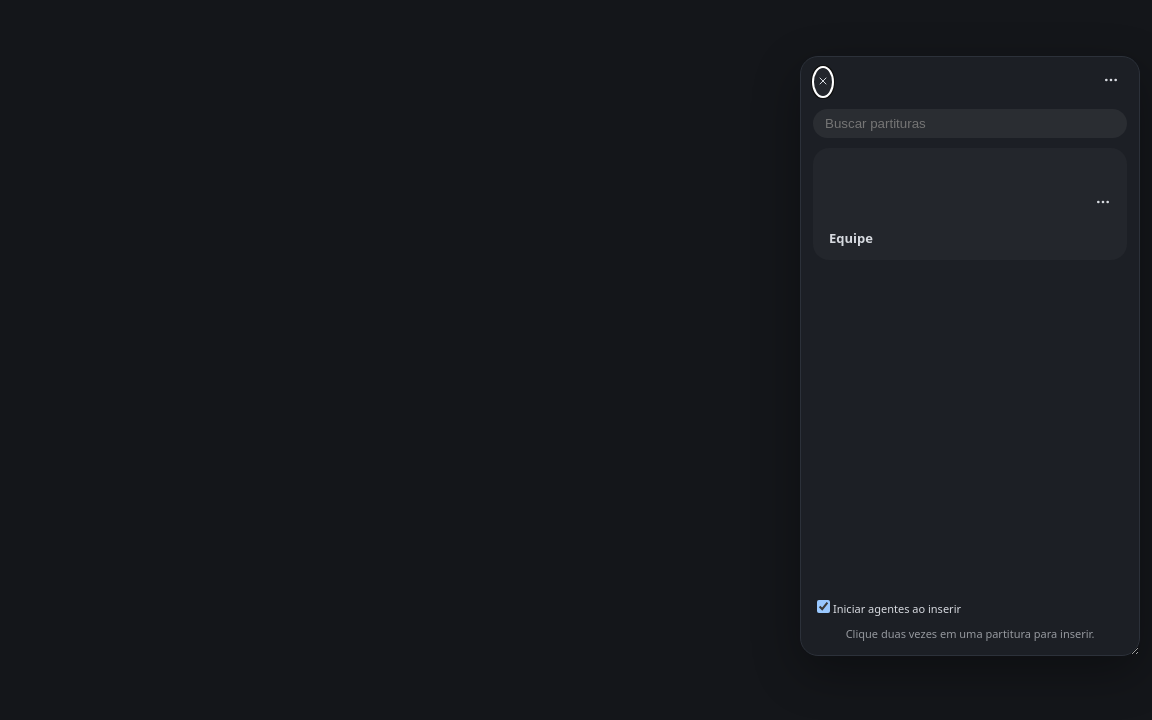
Test: Escape fecha o painel mesmo com o foco perdido, e o foco volta ao painel depois de cada ação
The image size is (1152, 720).
Press Escape
Click the button named "Ações de Equipe".
click(1103, 204)  # box x1=1087 y1=156 x2=1119 y2=252
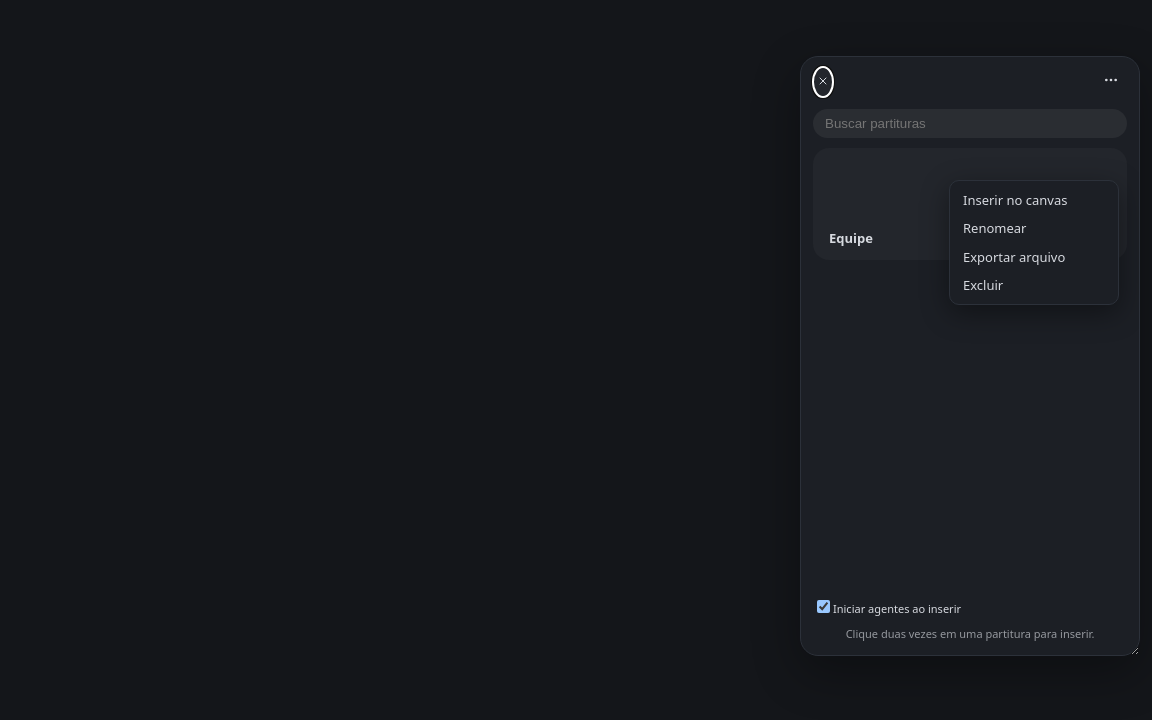
Now the menu item "Excluir" is shown
Click the menu item "Excluir".
click(1034, 285)  # box x1=955 y1=271 x2=1113 y2=299
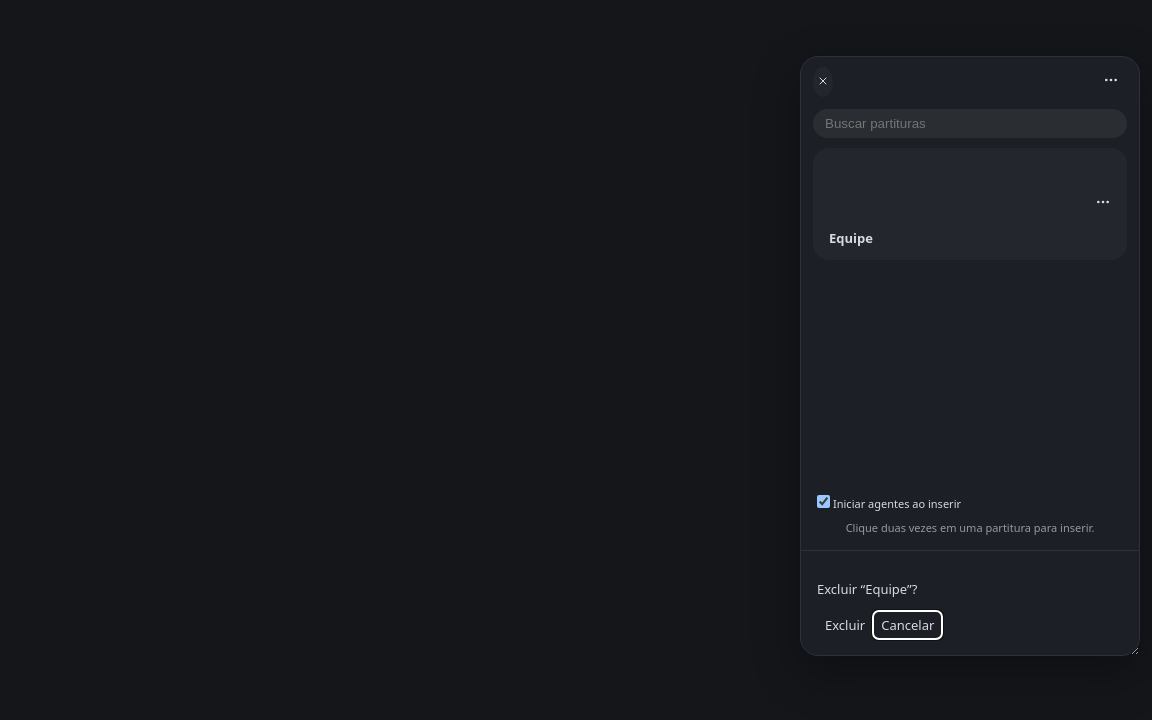
Now the button "Cancelar" is shown
Press Escape in the button "Cancelar", box x1=873 y1=611 x2=942 y2=639
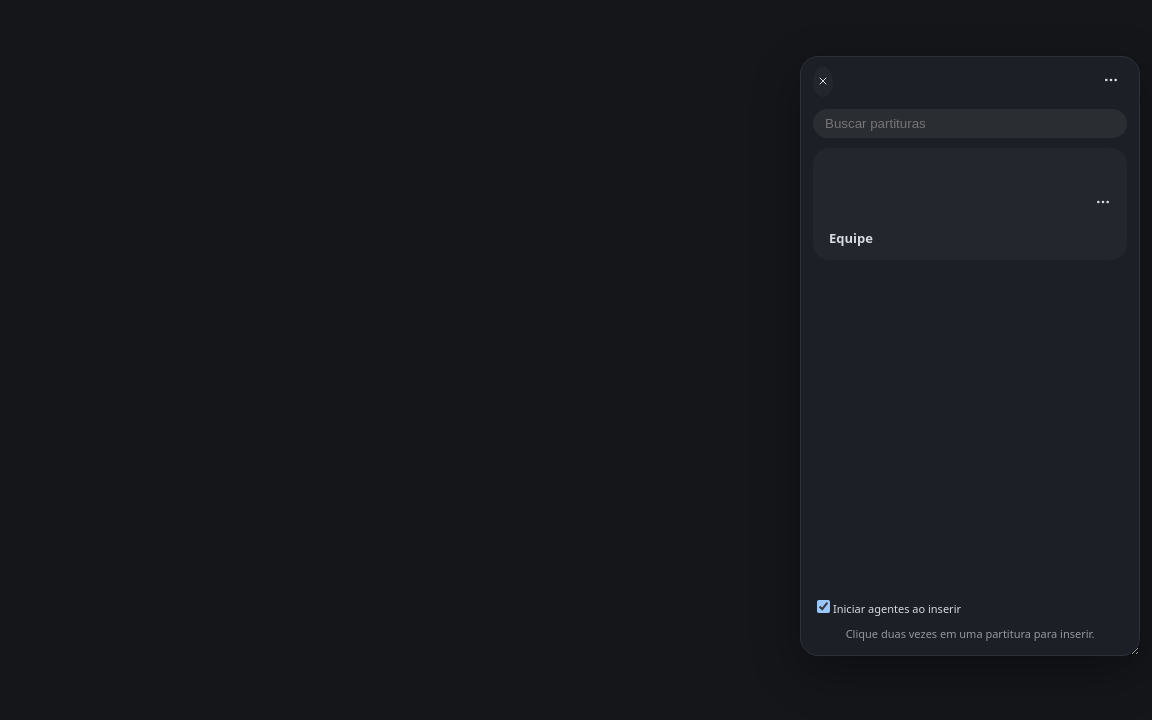
Now the dialog is gone
